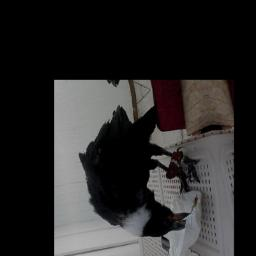Crow: (71, 92, 212, 253)
